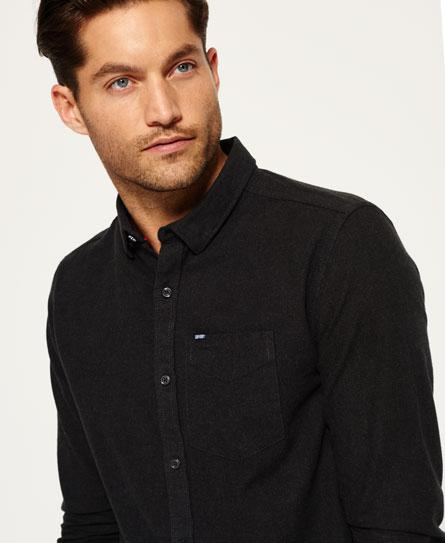teeshirt: (40, 180, 445, 542)
